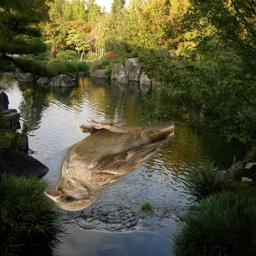Sparrow: (44, 119, 174, 211)
